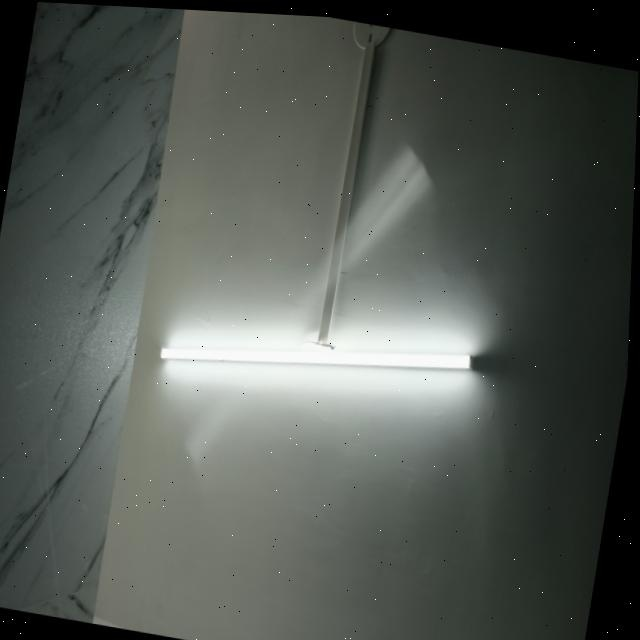fluorescent tube: (149, 289, 490, 419)
